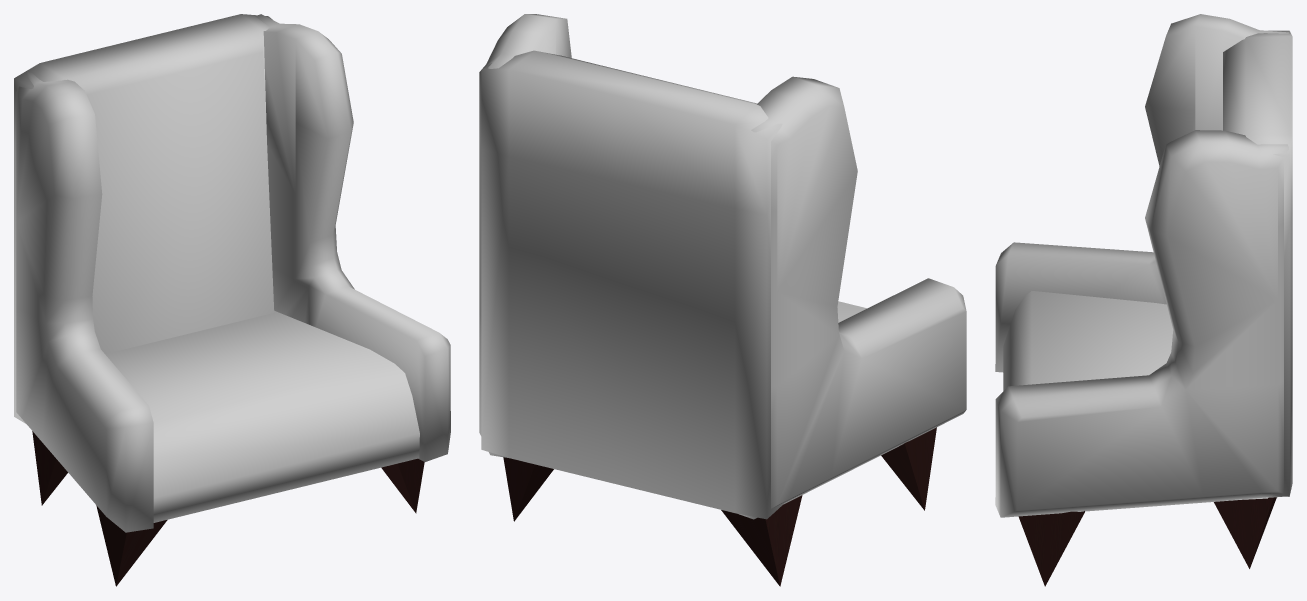
The model's file is Winged_Armchair_G.FBX.
The picture shows the model from 3 angles, left to right: view 1: azimuth 30°, elevation 25°; view 2: azimuth 150°, elevation 25°; view 3: azimuth 270°, elevation 25°; orthographic projection. The views are drawn at different scales.
Parts seen in each view (by area): view 1: Winged_Armchair; view 2: Winged_Armchair; view 3: Winged_Armchair.
Part boxes in pixels (left/top/right/bottom): Winged_Armchair: left=14, top=14, right=450, bottom=586; Winged_Armchair: left=479, top=14, right=966, bottom=586; Winged_Armchair: left=995, top=14, right=1292, bottom=586.
Size of the model in its own units: 174 by 208 by 129.
